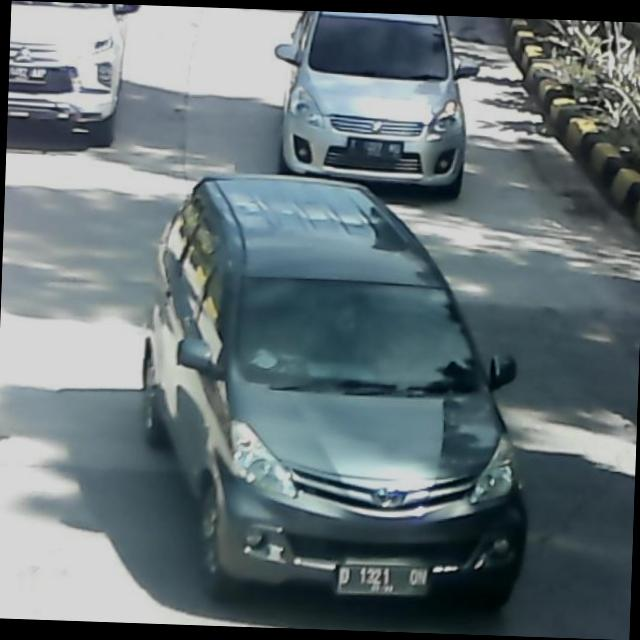plate: (334, 562, 434, 599)
